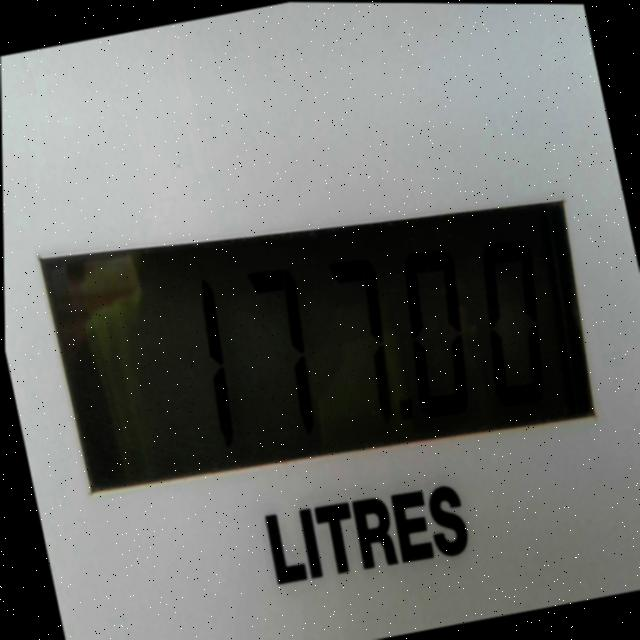.: (381, 374, 419, 439)
0: (456, 210, 577, 426), (376, 241, 491, 436)
1: (165, 249, 264, 453)
7: (225, 241, 350, 460), (305, 237, 419, 463)
